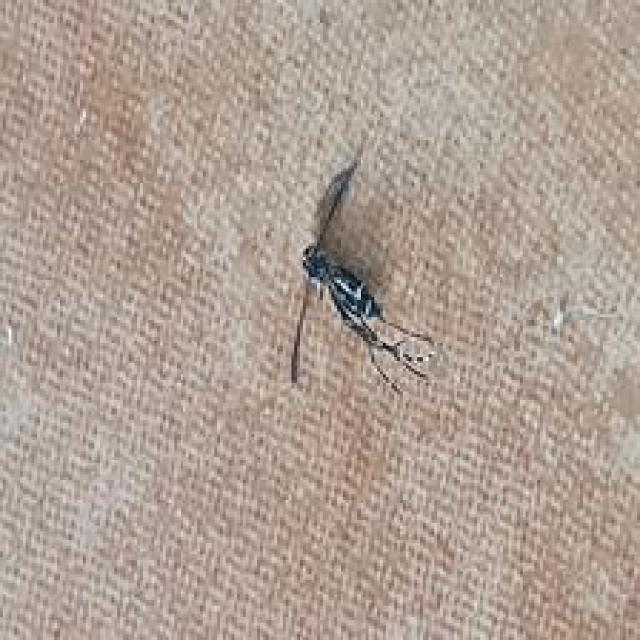Aedes albopictus: (289, 156, 437, 396)
